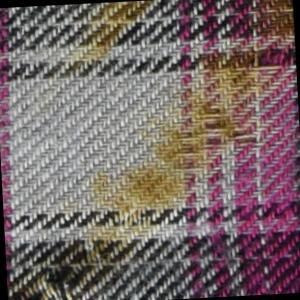Oil Stain: (84, 49, 267, 219), (5, 218, 163, 300), (59, 1, 159, 78), (255, 1, 295, 42)
